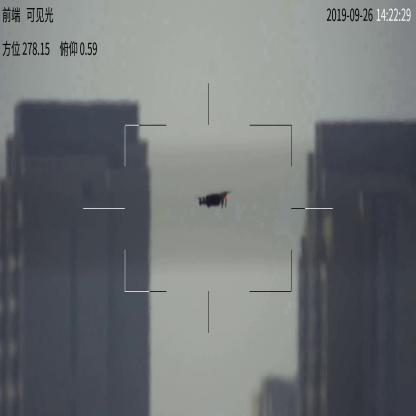uav: (193, 188, 233, 211)
